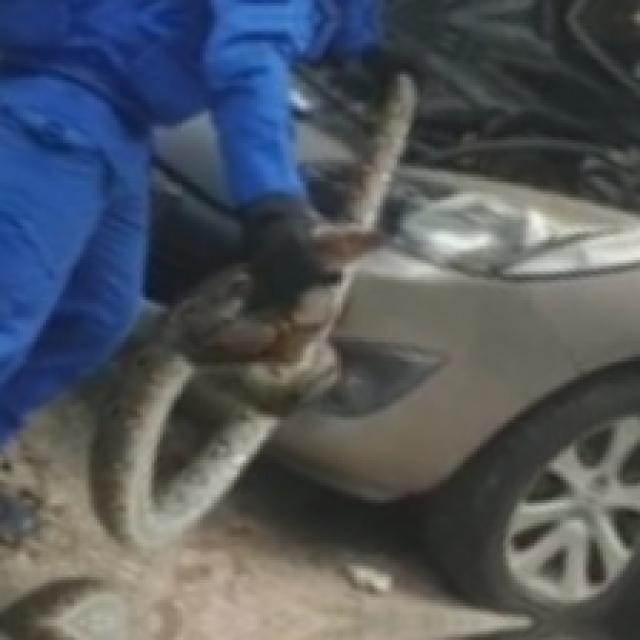reticulated python: (92, 264, 353, 548), (346, 71, 419, 228)
